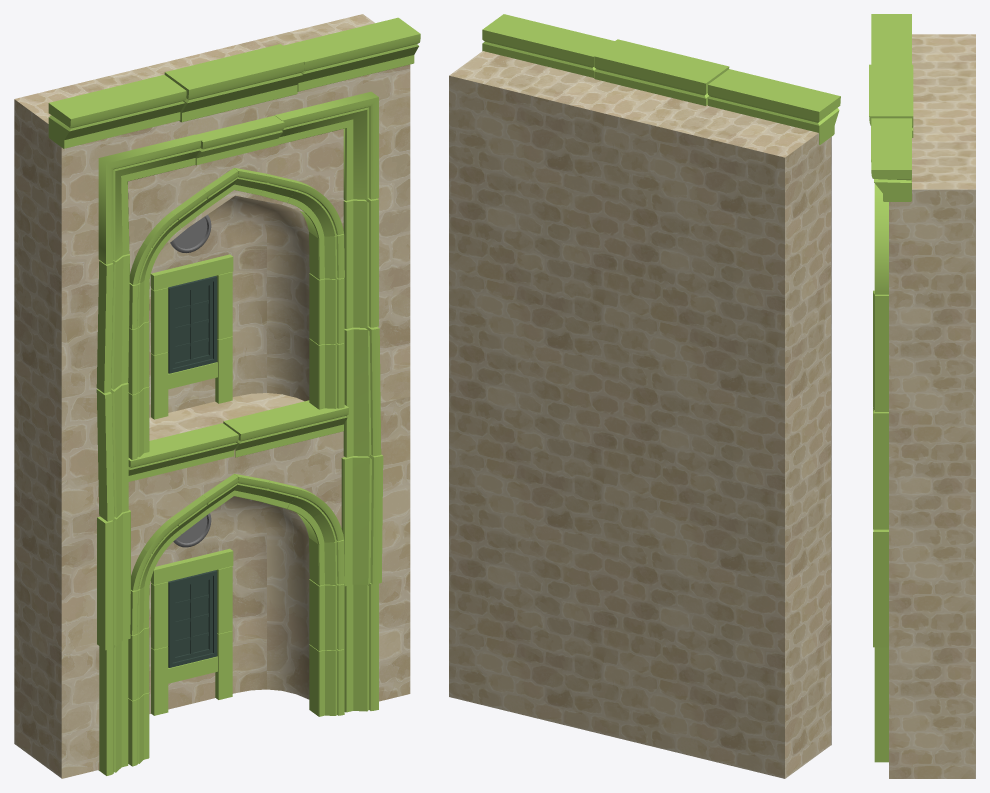
Rendered from SM_wall_large_06.fbx.
3 renders of one model, left to right at view 1: azimuth 30°, elevation 25°; view 2: azimuth 150°, elevation 25°; view 3: azimuth 270°, elevation 25°, orthographic. The views are drawn at different scales.
Parts seen in each view (by area): view 1: Object33154; view 2: Object33154; view 3: Object33154.
Part boxes in pixels (<box>): Object33154: <box>14,14,420,778</box>; Object33154: <box>449,14,840,778</box>; Object33154: <box>869,14,975,778</box>.
Bounding box in the file's own units: 297 × 543 × 85.91.
